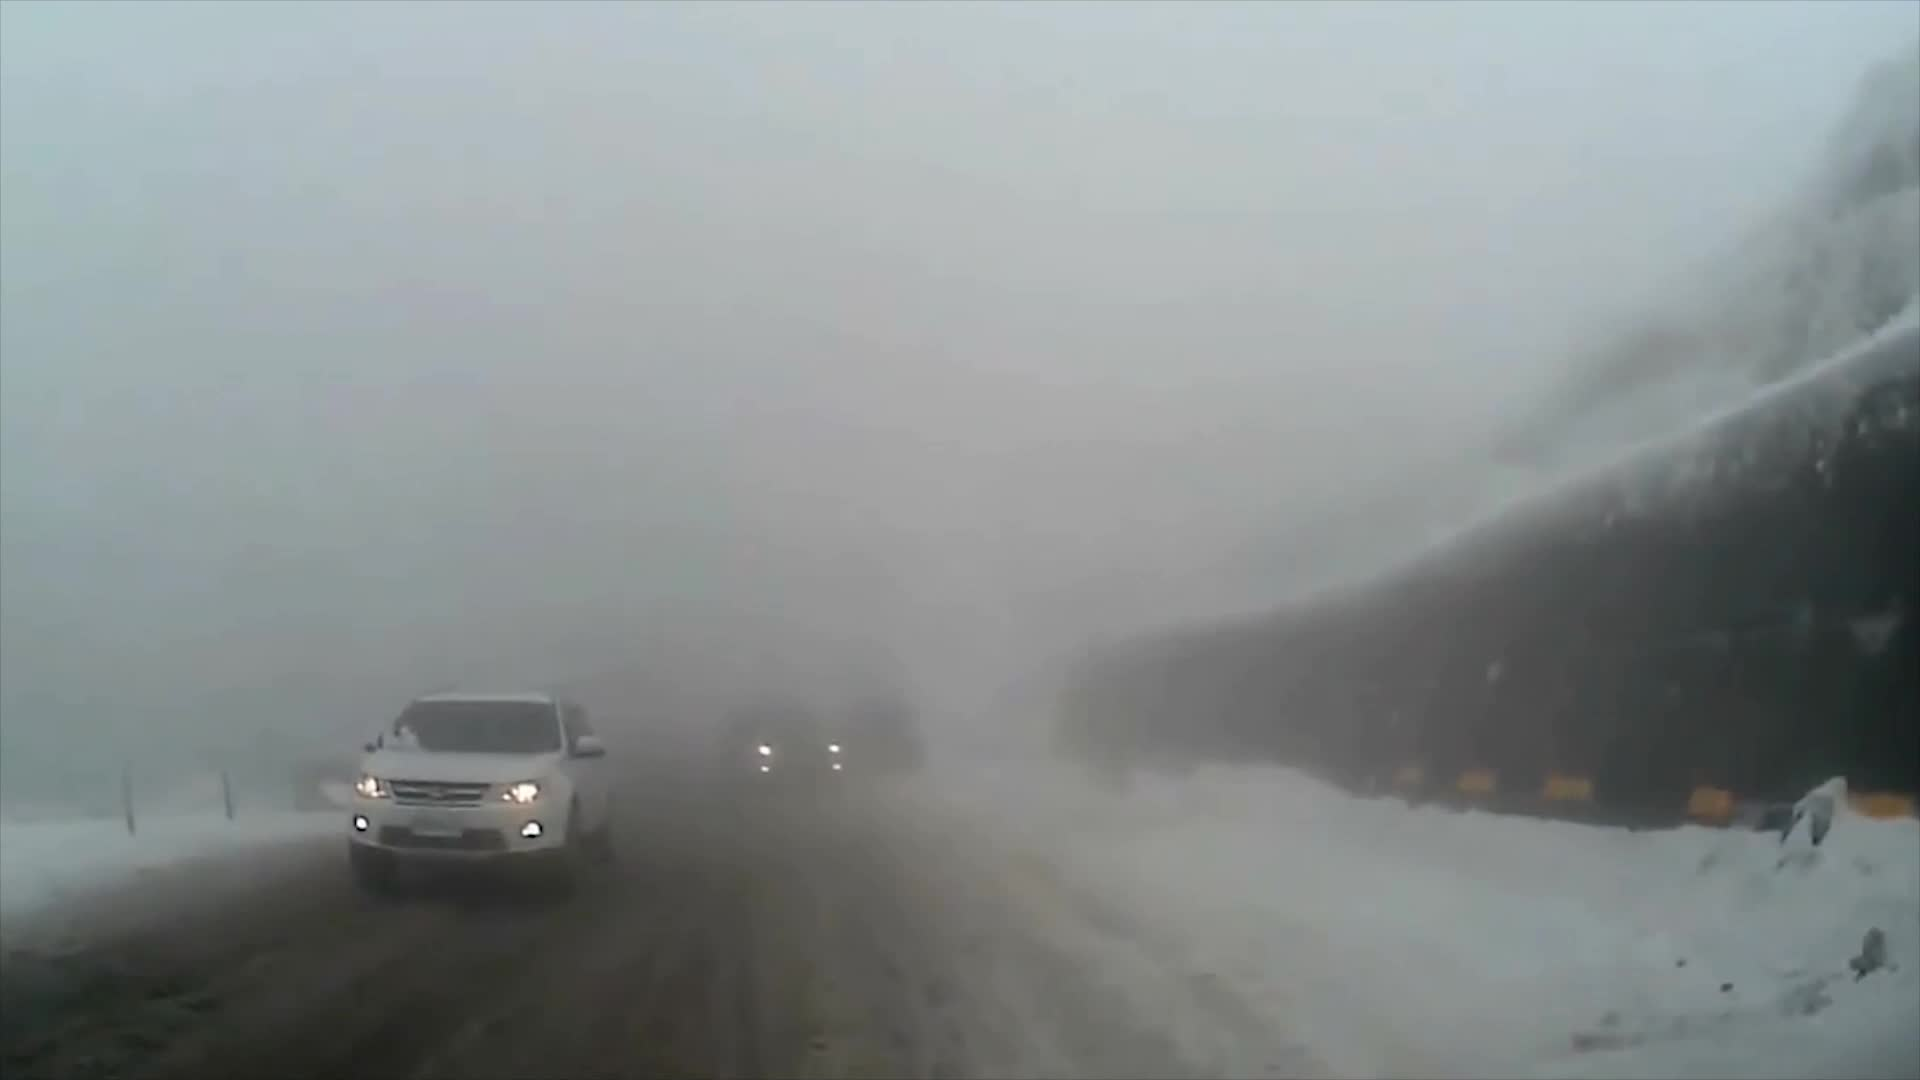vehicle: (338, 680, 615, 901), (712, 698, 845, 795)
